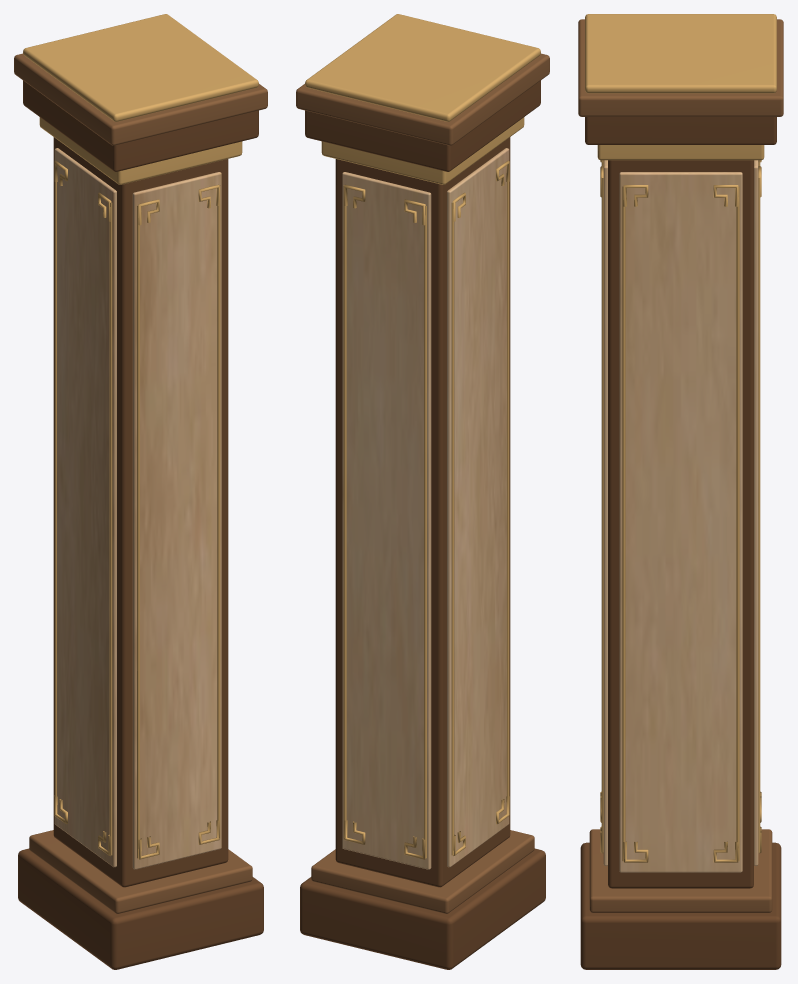
File: restoration-pillar.glb
3 views of the same model, side by side, from view 1: azimuth 30°, elevation 25°; view 2: azimuth 150°, elevation 25°; view 3: azimuth 270°, elevation 25° (orthographic). The views are drawn at different scales.
Visible parts, largest first — view 1: restoration-pillar_Warm ivory limestone, restoration-pillar_Dark walnut frame, restoration-pillar_Brass inlay, restoration-pillar_Walnut edge highlight; view 2: restoration-pillar_Warm ivory limestone, restoration-pillar_Dark walnut frame, restoration-pillar_Brass inlay, restoration-pillar_Walnut edge highlight; view 3: restoration-pillar_Warm ivory limestone, restoration-pillar_Dark walnut frame, restoration-pillar_Brass inlay, restoration-pillar_Walnut edge highlight.
Part boxes in pixels (x1,y1,x2,y2): restoration-pillar_Warm ivory limestone: (54, 148, 221, 869); restoration-pillar_Dark walnut frame: (18, 80, 263, 969); restoration-pillar_Brass inlay: (23, 14, 258, 859); restoration-pillar_Walnut edge highlight: (14, 53, 267, 913); restoration-pillar_Warm ivory limestone: (342, 148, 509, 869); restoration-pillar_Dark walnut frame: (300, 80, 545, 969); restoration-pillar_Brass inlay: (305, 14, 540, 859); restoration-pillar_Walnut edge highlight: (296, 53, 549, 913); restoration-pillar_Warm ivory limestone: (603, 160, 758, 872); restoration-pillar_Dark walnut frame: (580, 117, 781, 969); restoration-pillar_Brass inlay: (585, 14, 776, 862); restoration-pillar_Walnut edge highlight: (578, 19, 783, 912).
Bounding box in the file's own units: 0.82 × 4.27 × 0.9.
Materials: 4 (1 with a texture image).
